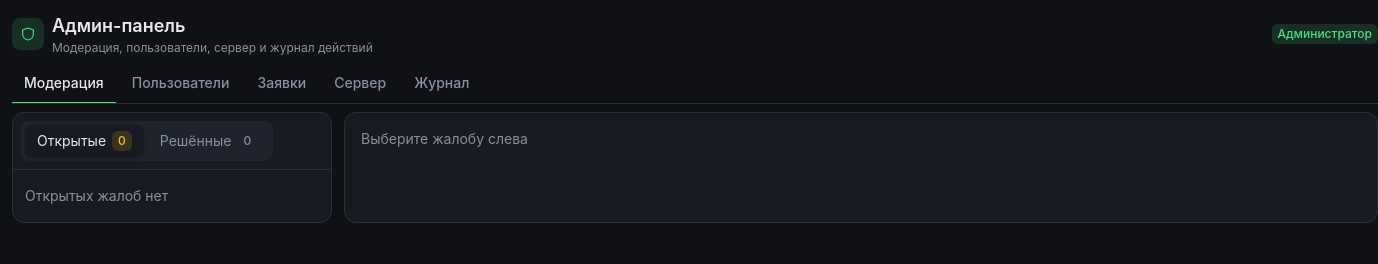
Test: requests tab › creates the account of an approved request
Click the tab "Заявки": (282, 84) [245,64,318,104]
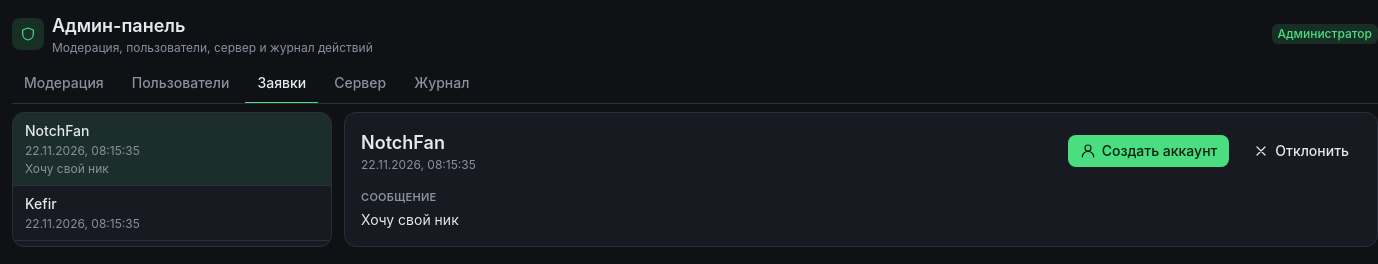
Click the text "Kefir": (41, 204) [25,195,57,212]
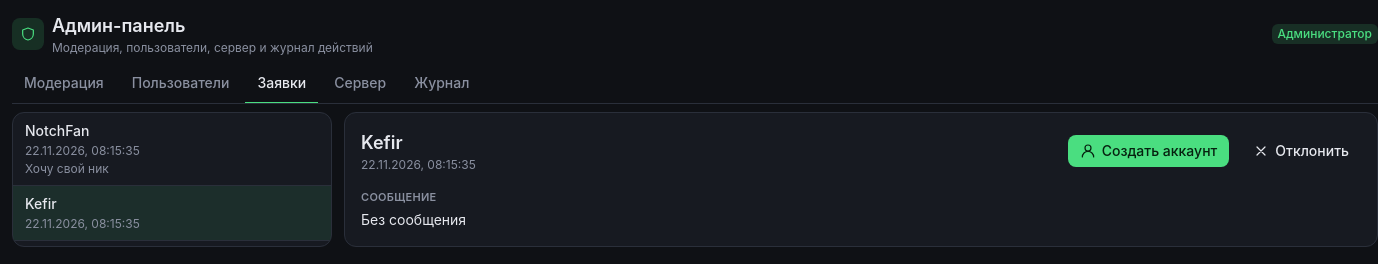
Expected: the text "Без сообщения" is shown, [361,210,466,228]
Click the text "NotchFan": (57, 130) [25,122,90,139]
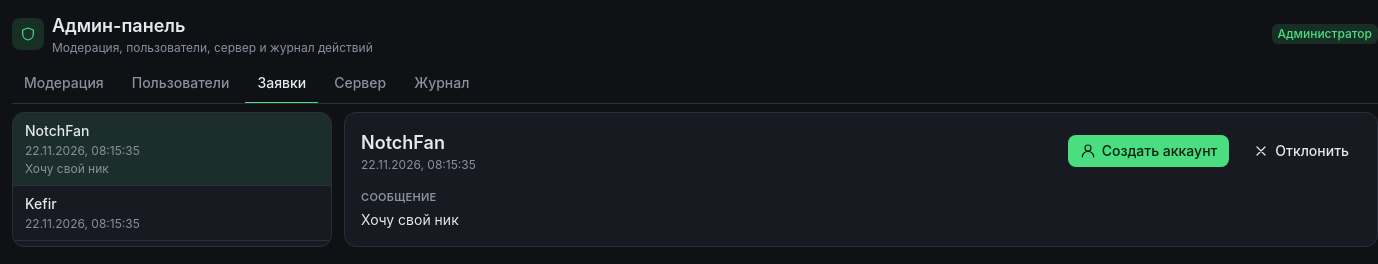
Click the button "Создать аккаунт": (1148, 151) [1068,135,1229,167]
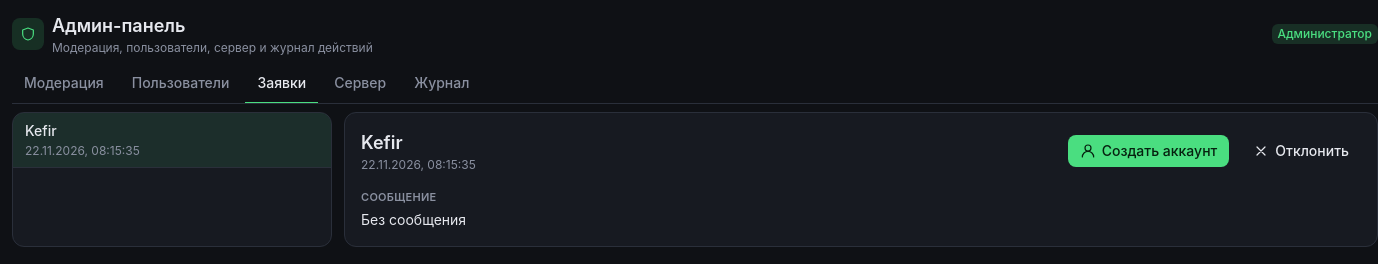
Expected: no buttons "NotchFan" are shown
